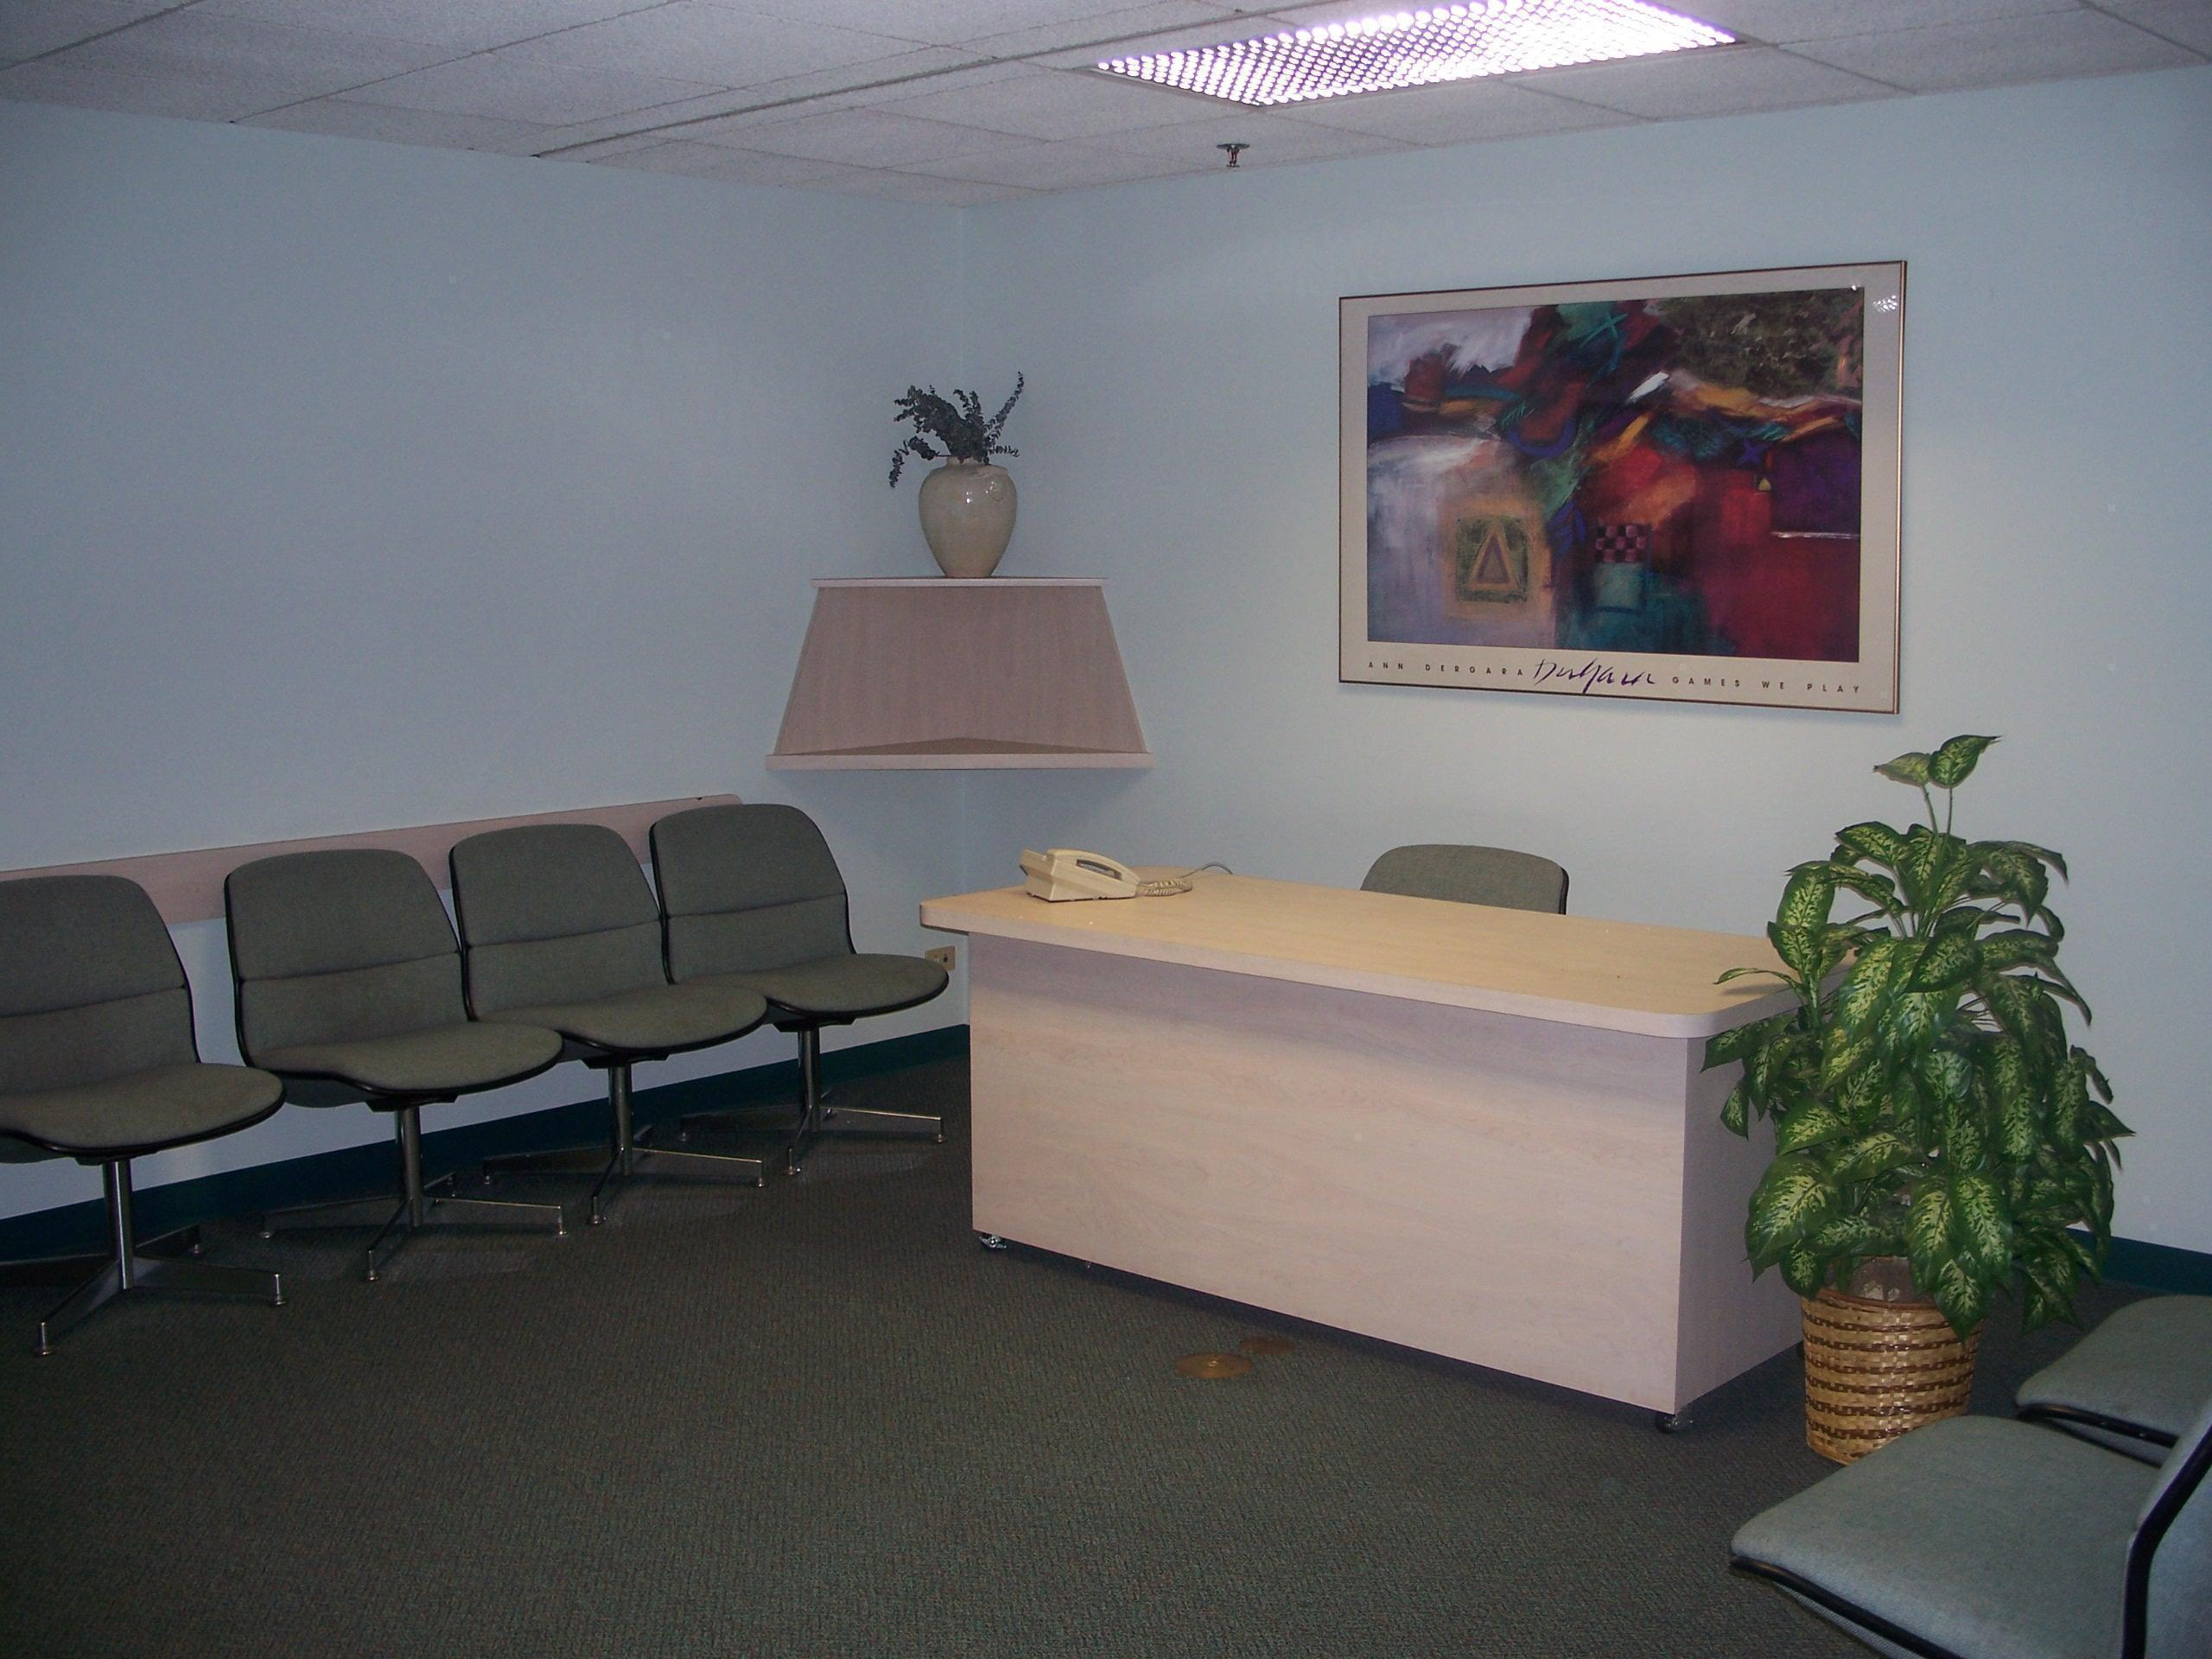Matera: (1726, 777, 2092, 1466)
